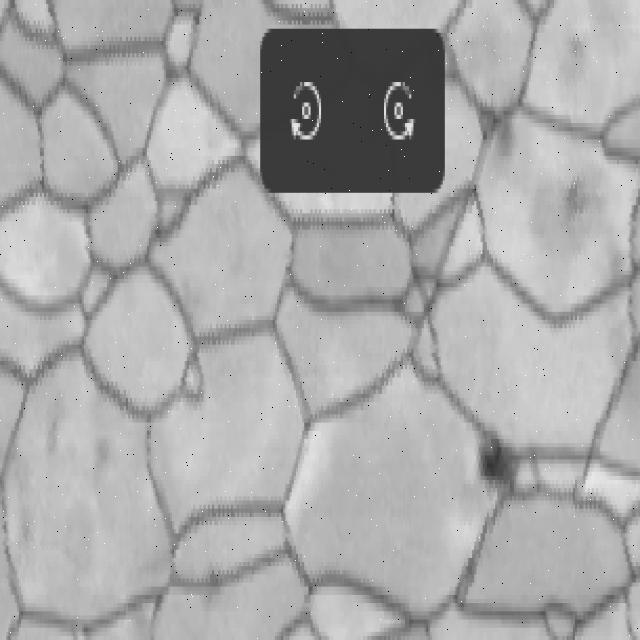good_void: (527, 154, 614, 251), (470, 403, 525, 510), (470, 87, 527, 174), (190, 554, 228, 624)
